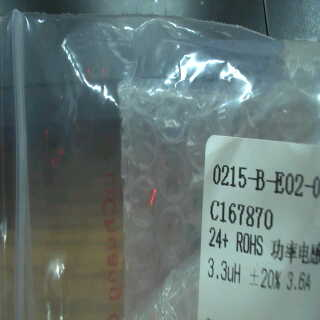3.3uH: (204, 256, 249, 287)
